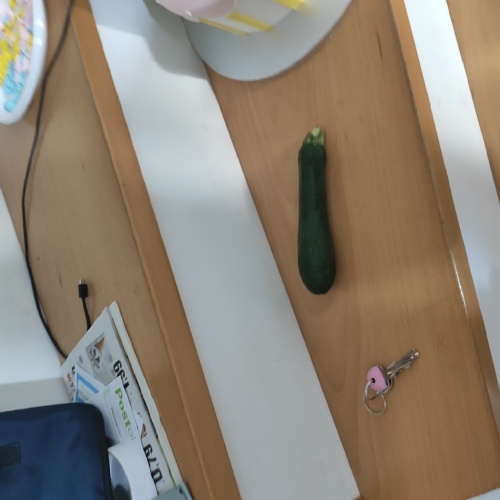zucchine: (290, 127, 343, 295)
